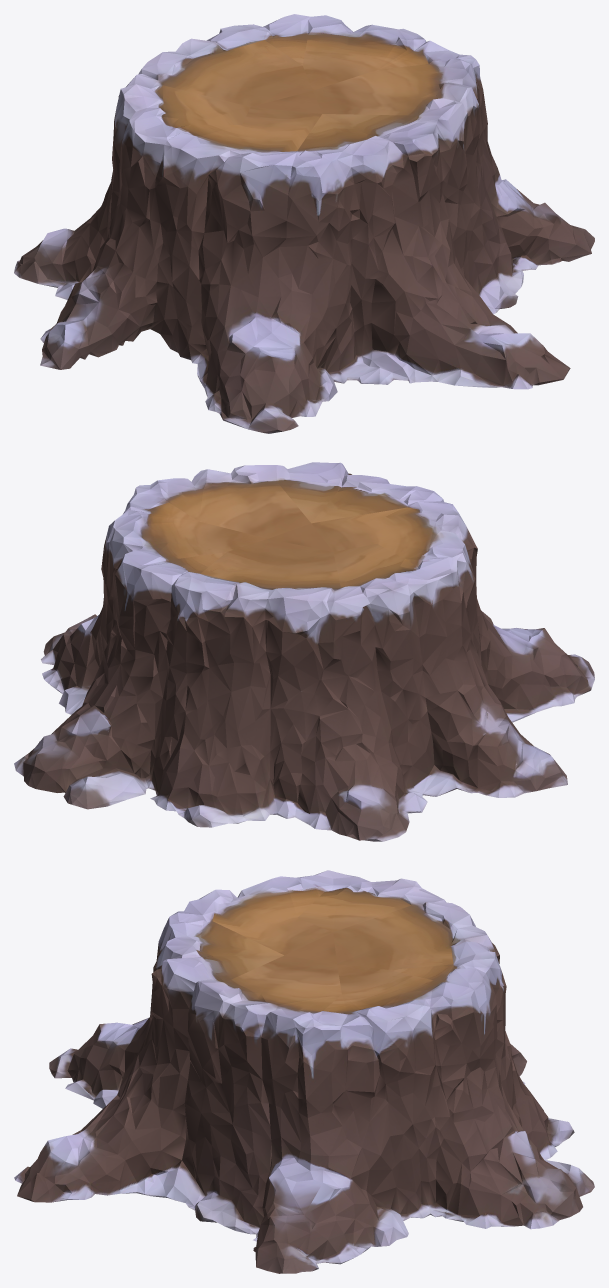
File: stump.glb
3 views of the same model, one above another, from view 1: azimuth 30°, elevation 25°; view 2: azimuth 150°, elevation 25°; view 3: azimuth 270°, elevation 25° (orthographic).
Parts seen in each view (by area): view 1: Stump; view 2: Stump; view 3: Stump.
Part boxes in pixels (x1=…): Stump: x1=14, y1=14, x2=594, y2=433; Stump: x1=14, y1=462, x2=594, y2=841; Stump: x1=14, y1=870, x2=594, y2=1273.
Bounding box in the file's own units: 1 × 0.3697 × 0.9381.
Materials: 1 (1 with a texture image).
